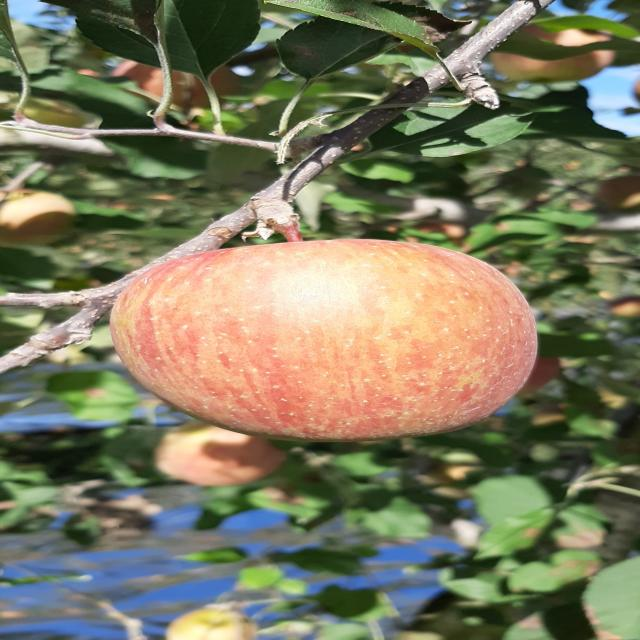fresh: (105, 233, 546, 448)
